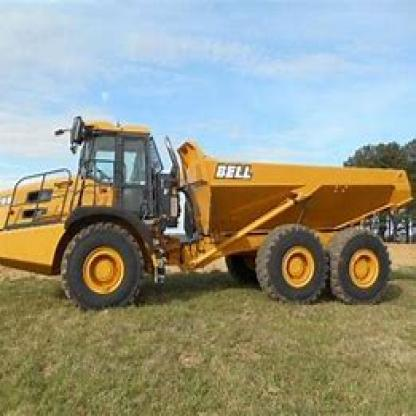dump_truck: (5, 106, 414, 340)
